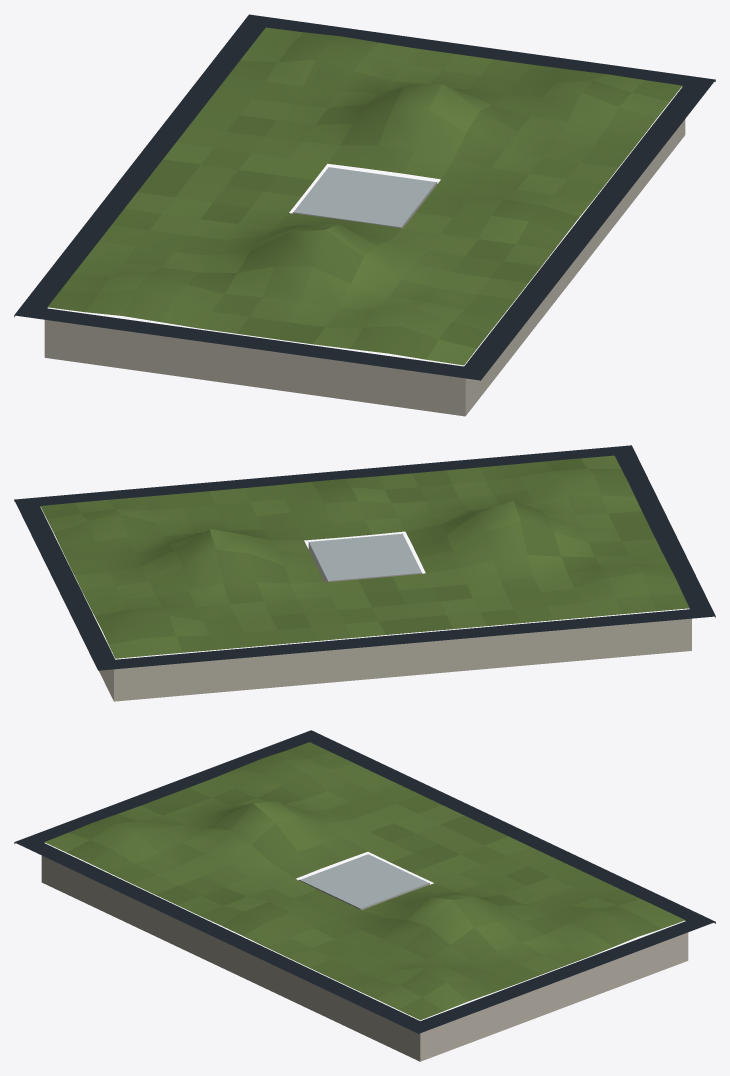
The model's file is academy_lod1.glb.
3 renders of one model, top to bottom at view 1: azimuth 30°, elevation 25°; view 2: azimuth 150°, elevation 25°; view 3: azimuth 270°, elevation 25°, orthographic. The views are drawn at different scales.
Parts seen in each view (by area): view 1: L1_grass, L1_glassc, L1_win; view 2: L1_grass, L1_glassc, L1_win; view 3: L1_grass, L1_glassc, L1_win.
Boxes of the visible parts, bbox=[...] form: L1_grass: bbox=[47, 27, 682, 365]; L1_glassc: bbox=[14, 14, 715, 380]; L1_win: bbox=[44, 119, 685, 416]; L1_grass: bbox=[40, 455, 689, 658]; L1_glassc: bbox=[14, 445, 715, 670]; L1_win: bbox=[99, 618, 691, 701]; L1_grass: bbox=[44, 742, 685, 1020]; L1_glassc: bbox=[14, 730, 715, 1033]; L1_win: bbox=[41, 855, 688, 1061].
Bounding box in the file's own units: 202 × 23.42 × 197.
